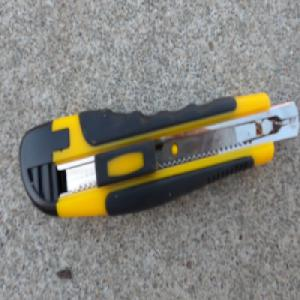Cutter: (18, 90, 299, 220)
